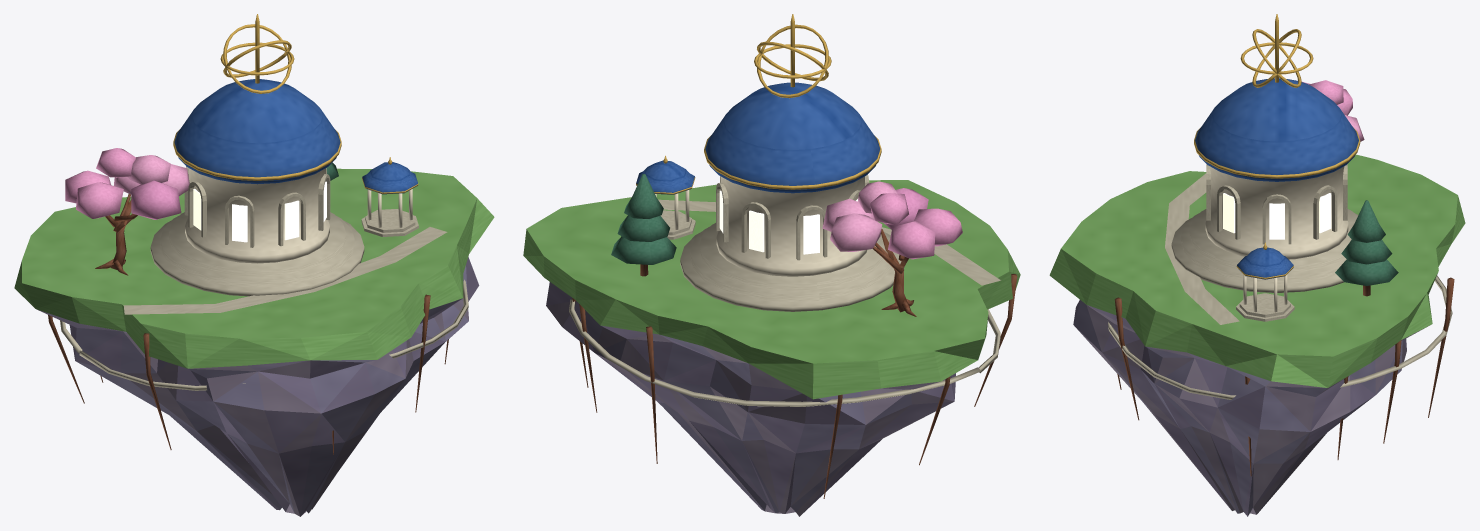
Rendered from sky-observatory.glb.
3 views of the same model, side by side, from view 1: azimuth 30°, elevation 25°; view 2: azimuth 150°, elevation 25°; view 3: azimuth 270°, elevation 25° (orthographic). The views are drawn at different scales.
Visible parts, largest first — view 1: sky-observatory; view 2: sky-observatory; view 3: sky-observatory.
Part boxes in pixels (x1=…): sky-observatory: x1=14, y1=14, x2=494, y2=516; sky-observatory: x1=523, y1=14, x2=1020, y2=516; sky-observatory: x1=1049, y1=14, x2=1465, y2=516.
Bounding box in the file's own units: 12.93 × 13.66 × 10.66.
10 materials, 10 textured.
